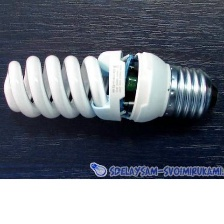light_bulb: (0, 45, 222, 130)
